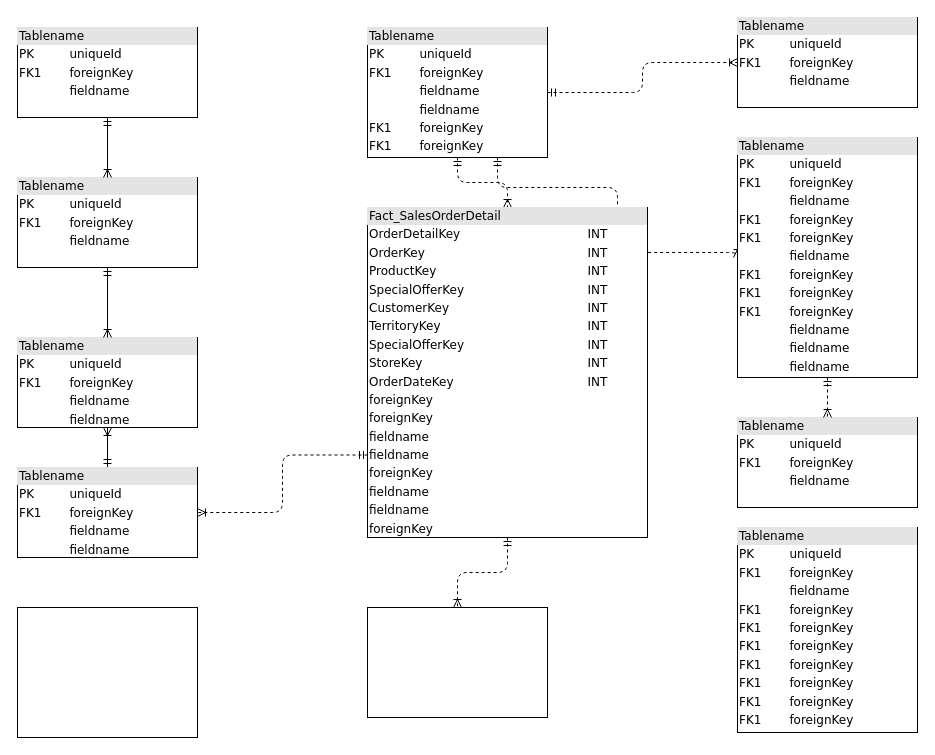
Image size: 935x755. Some labels were removed from this diagram. Here are the shapes that lost their labels. From the top down, the box of each, then its label:
(16, 606, 198, 738): Tablename PK uniqueId FK1 foreignKey fieldname fieldname fieldname fieldname
(366, 606, 548, 718): Tablename PK uniqueId FK1 foreignKey fieldname fieldname FK1 foreignKey
